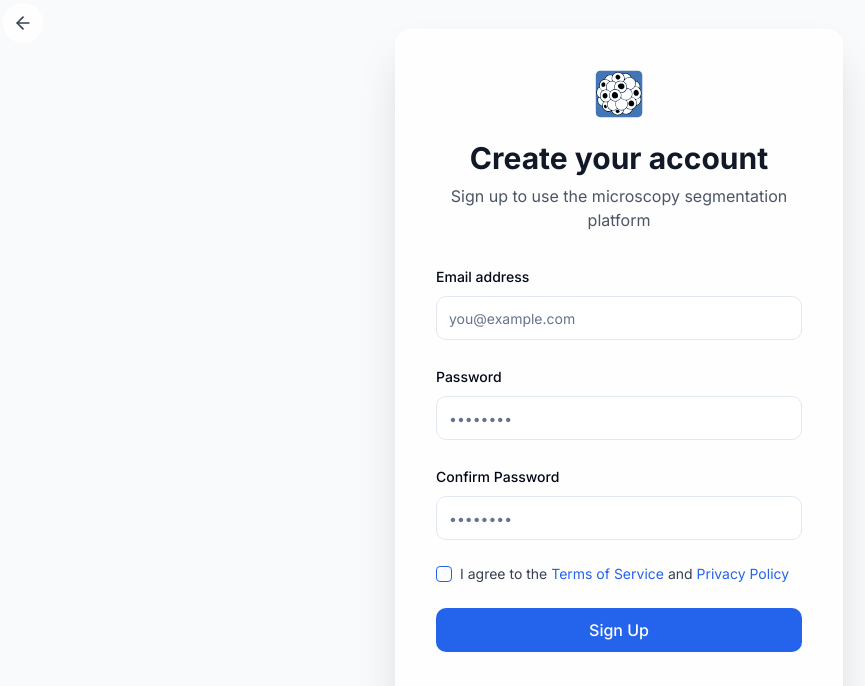
SignUp › Real-time password-match indicator › shows "Passwords do not match" when passwords differ
The image size is (865, 686).
In the field labelled "Email address": [619, 318] box [436,296,802,340], type "test@example.com"
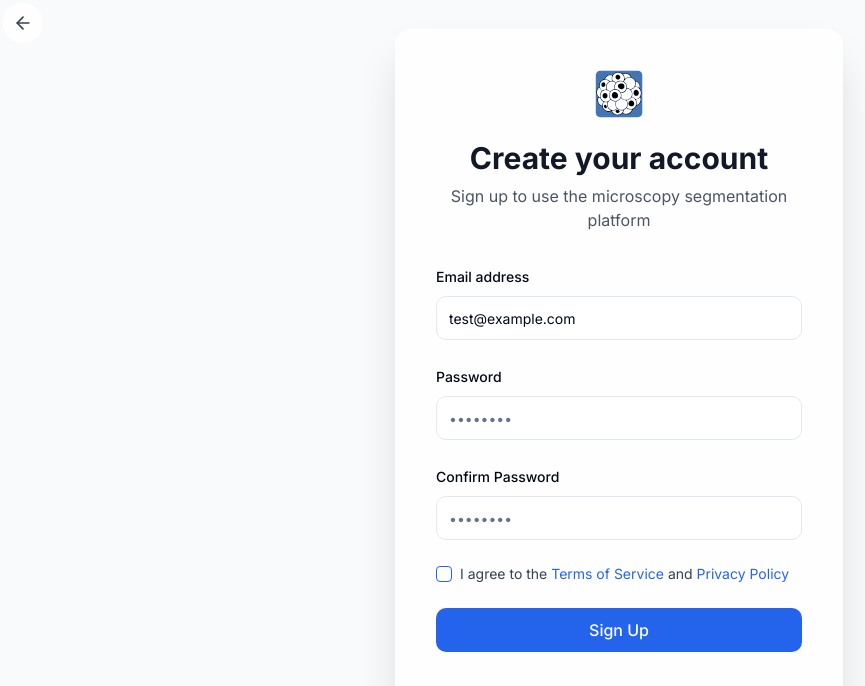
In the password field labelled "Password": [619, 418] box [436,396,802,440], type "abc12345"
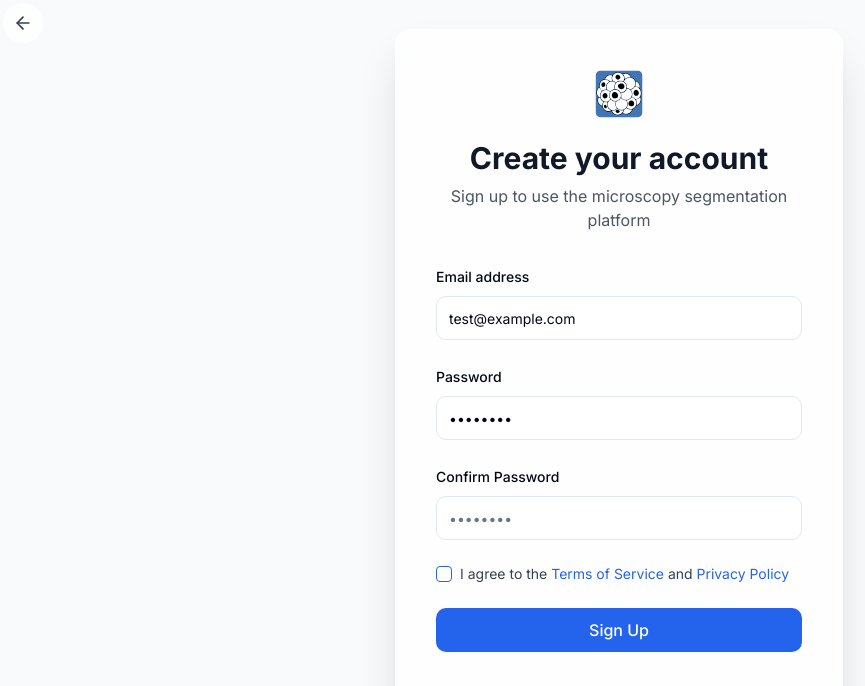
In the password field labelled "Confirm Password": [619, 518] box [436,496,802,540], type "xyz99999"
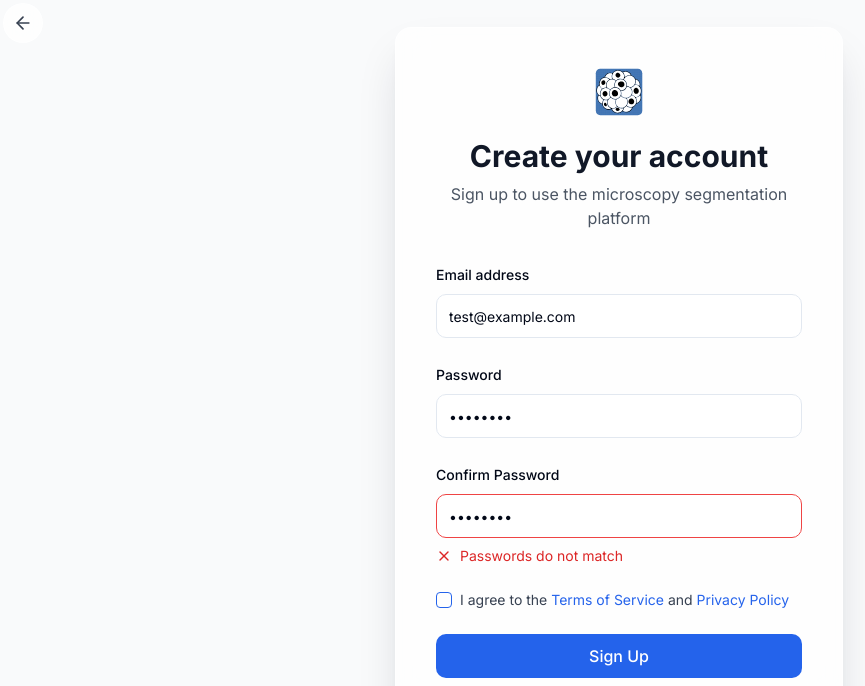
Expected: the text "Passwords do not match" is shown, [460,546,623,566]
